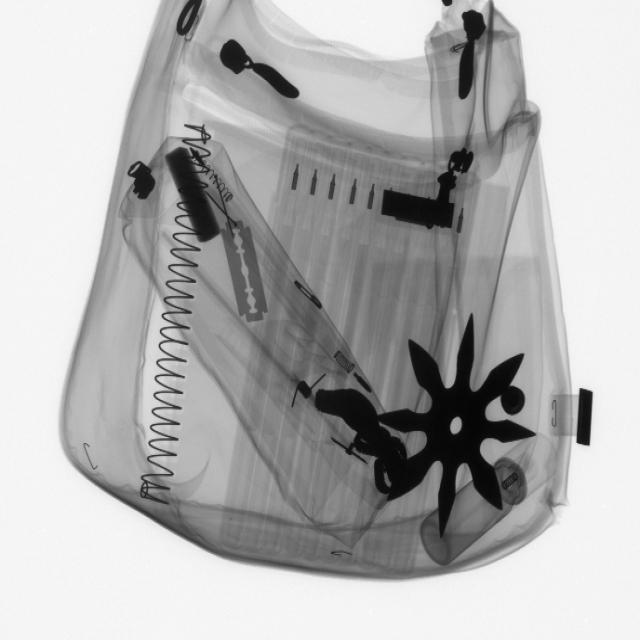BLADE: (220, 215, 274, 329)
SHURIKEN: (376, 315, 537, 537)
